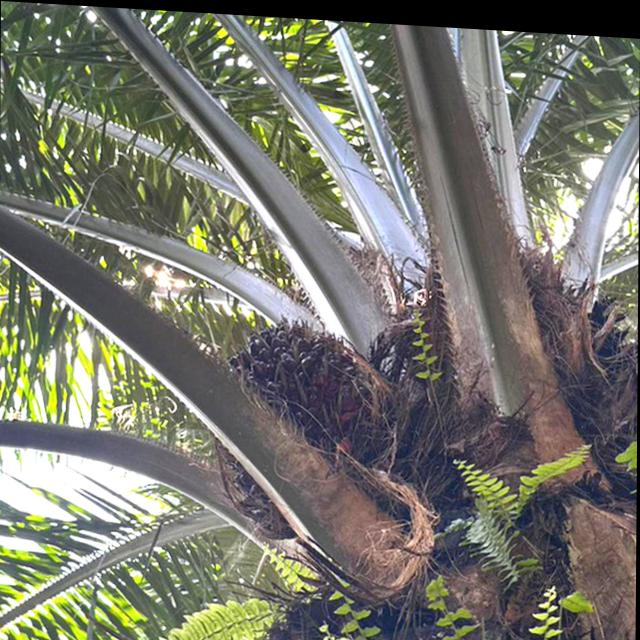ripe: (222, 302, 400, 477)
